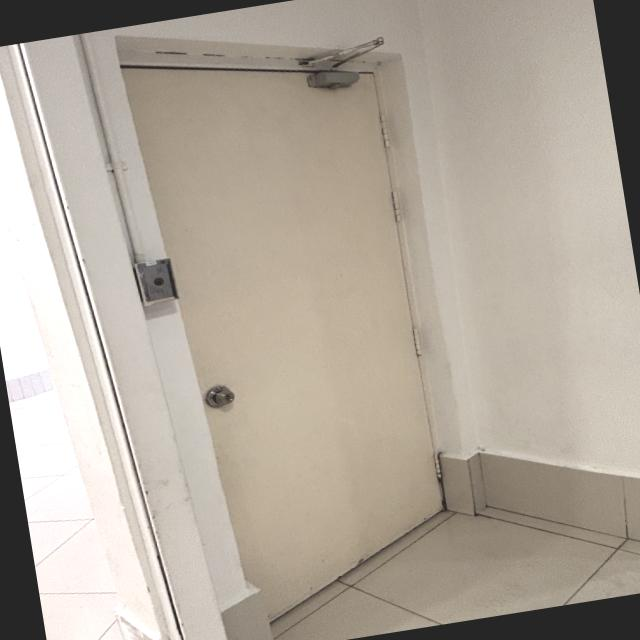door: (116, 36, 470, 627)
